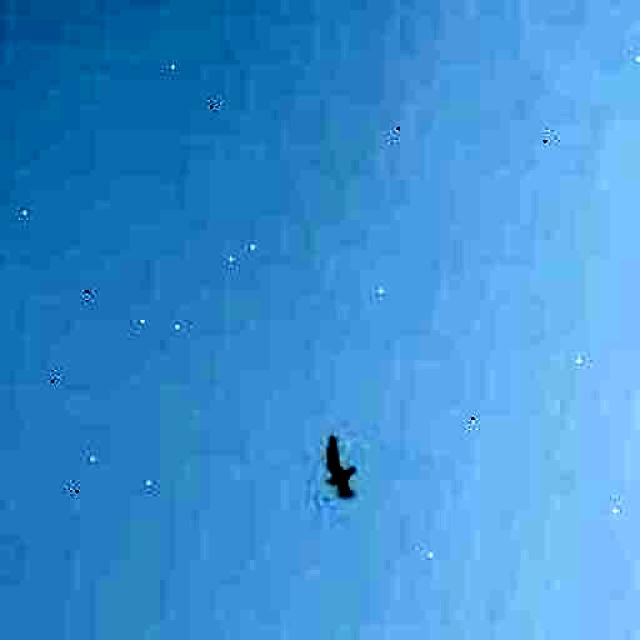airplane: (319, 435, 362, 501)
